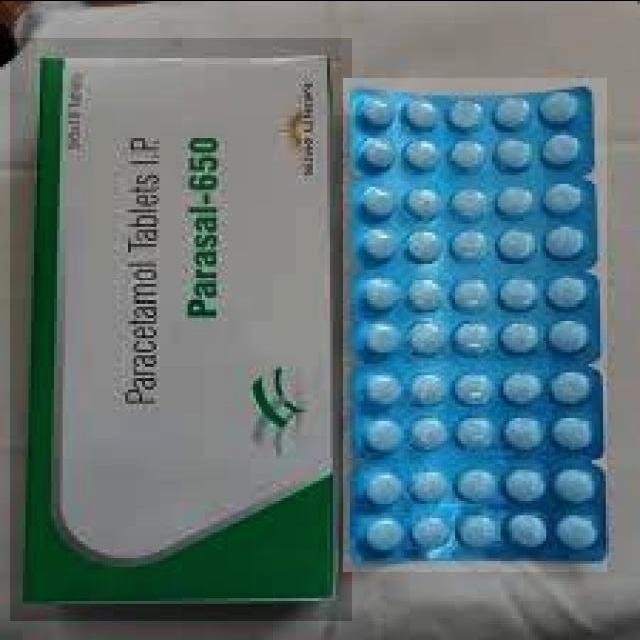authentic: (10, 37, 352, 620), (343, 77, 607, 571)
